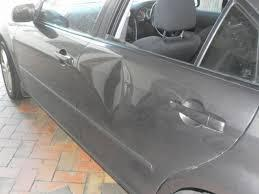doorouter-dent: (94, 34, 199, 156)
